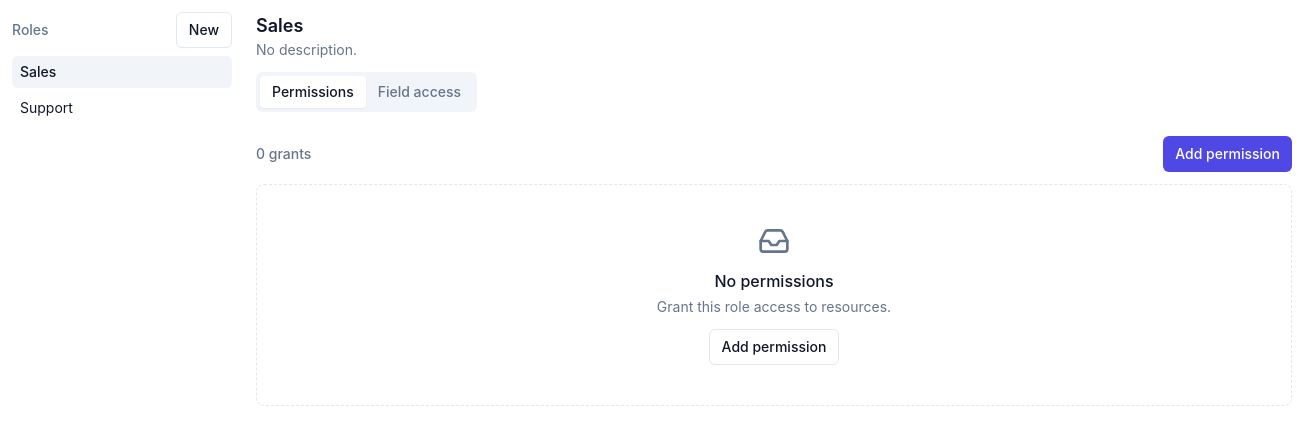
Test: PermissionBuilder — role selection drives the data shown › switching role re-queries grants for the newly selected role
The image size is (1304, 423).
Click the button "Support".
click(122, 108)  # box [12,92,232,124]
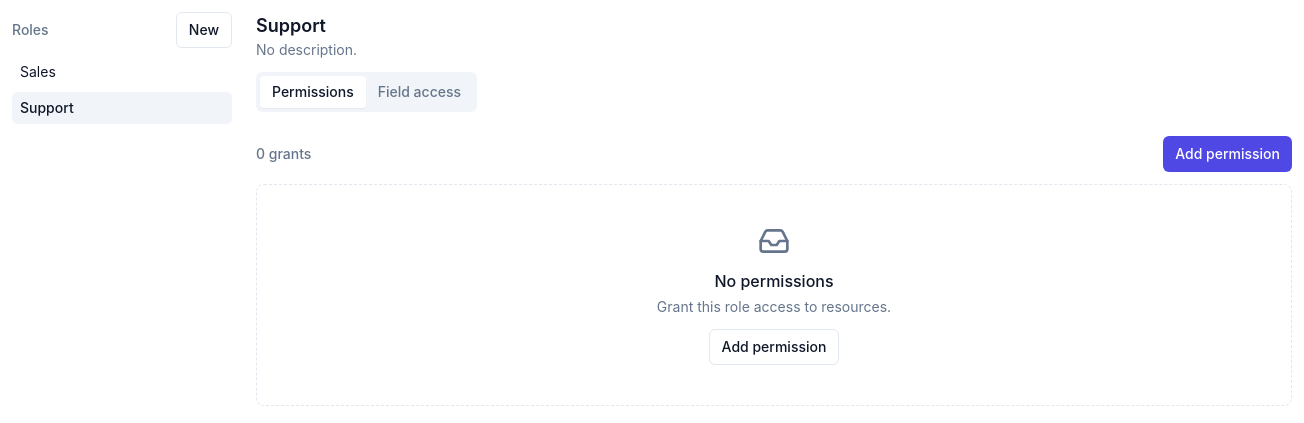
Expected: the heading "Support" is shown, [256,15,326,36]
